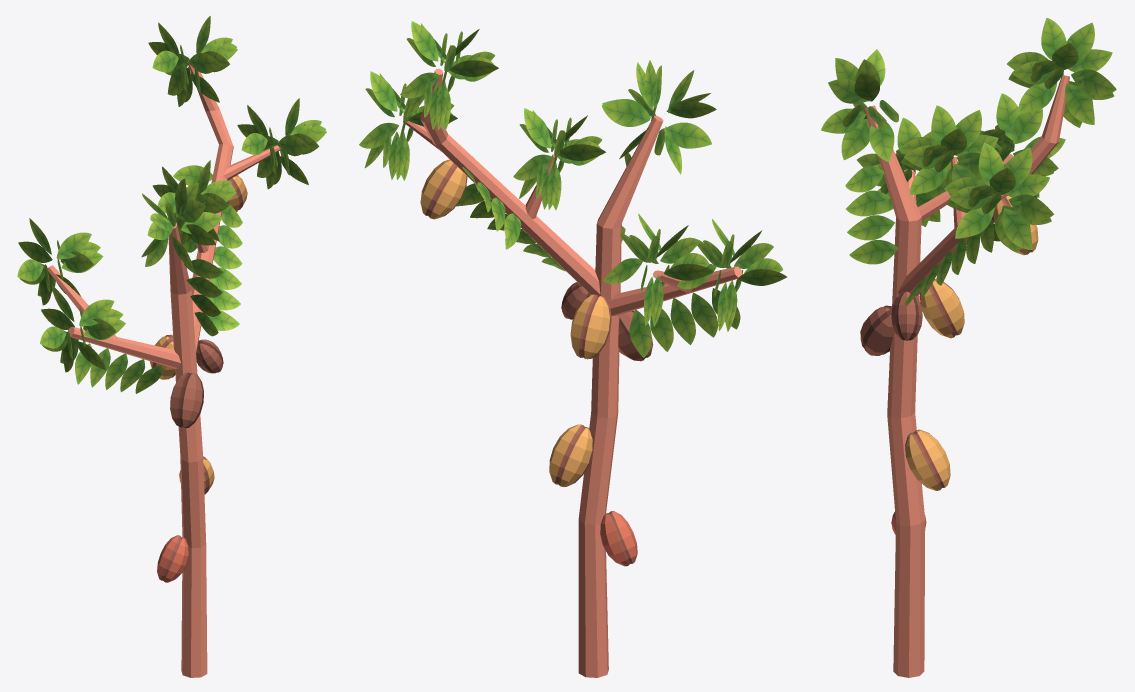
Rendered from cocoa_big_fixed.fbx.
The picture shows the model from 3 angles, left to right: view 1: azimuth 30°, elevation 25°; view 2: azimuth 150°, elevation 25°; view 3: azimuth 270°, elevation 25°; orthographic projection. The views are drawn at different scales.
Parts seen in each view (by area): view 1: cocoa.big; view 2: cocoa.big; view 3: cocoa.big.
Part boxes in pixels (box(x1,y1,x2,y2)): cocoa.big: box(17, 16, 326, 677); cocoa.big: box(359, 21, 786, 677); cocoa.big: box(821, 18, 1116, 677).
Size of the model in its own units: 461 by 797 by 322.
